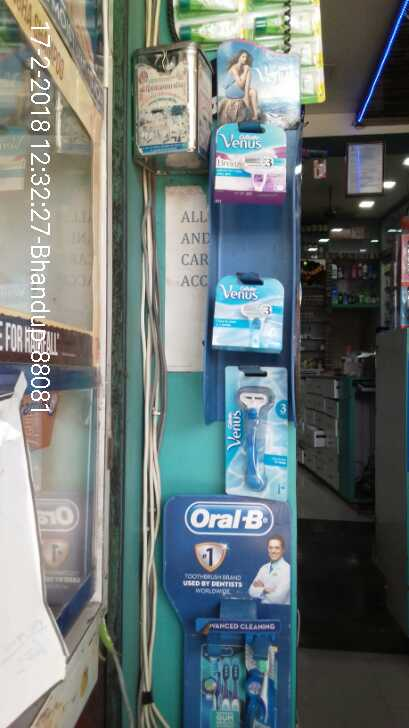beauty: (222, 366, 289, 501), (210, 272, 287, 353), (211, 121, 287, 195)
